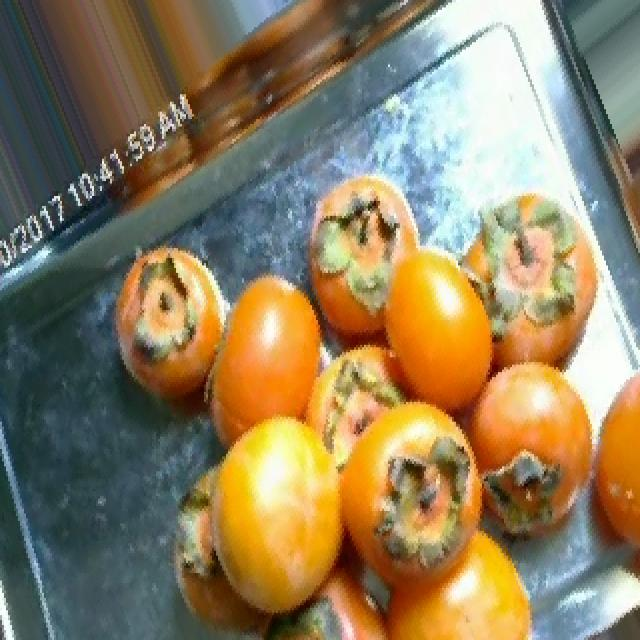Fruit: (90, 220, 240, 442)
